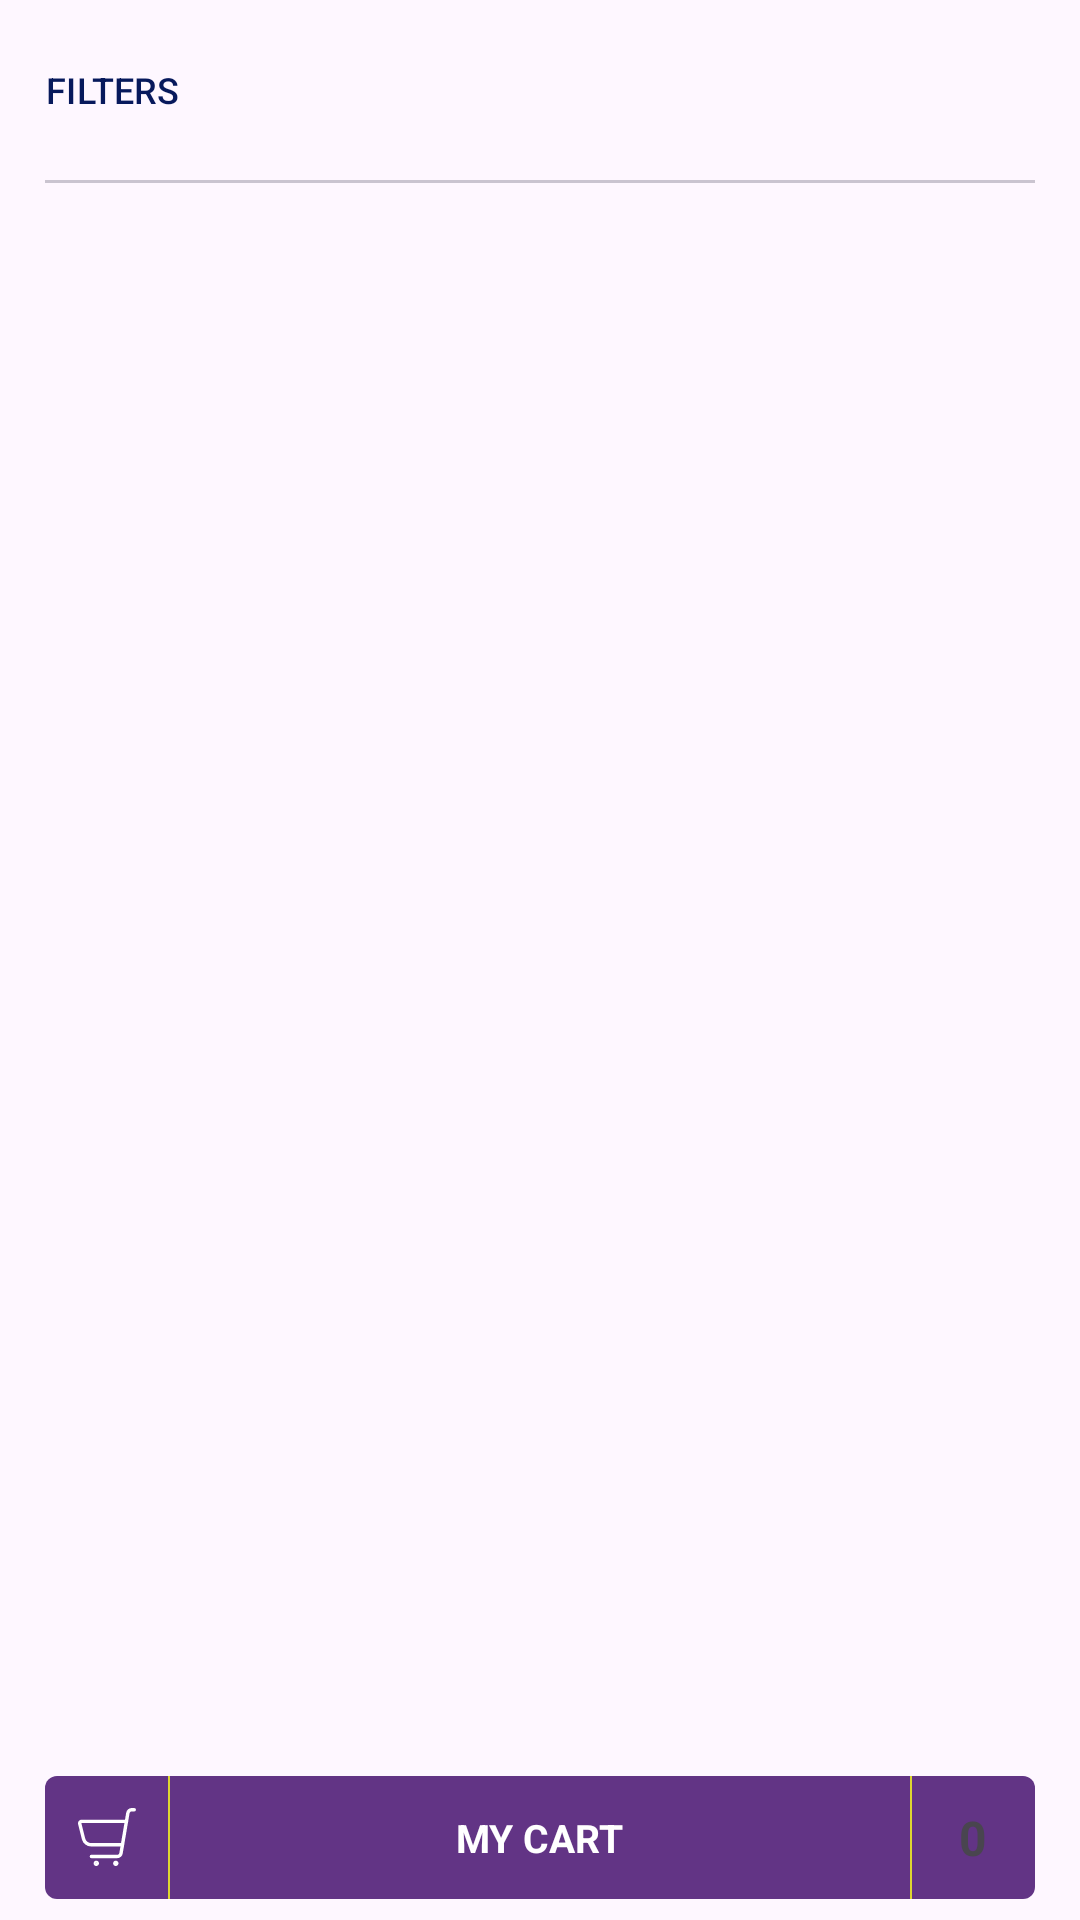

Named icons in this screenshot (1080x1920) and their centers, point (x, y):
cart: point (107, 1837)
